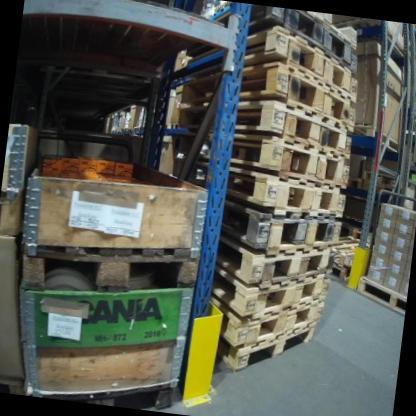pallet: (15, 223, 201, 316), (26, 360, 183, 413), (225, 163, 351, 223), (217, 198, 344, 257), (226, 131, 354, 188), (210, 266, 331, 322), (235, 102, 357, 157), (219, 289, 327, 349), (215, 236, 337, 289), (231, 314, 318, 352), (353, 276, 408, 318), (0, 187, 26, 238)
